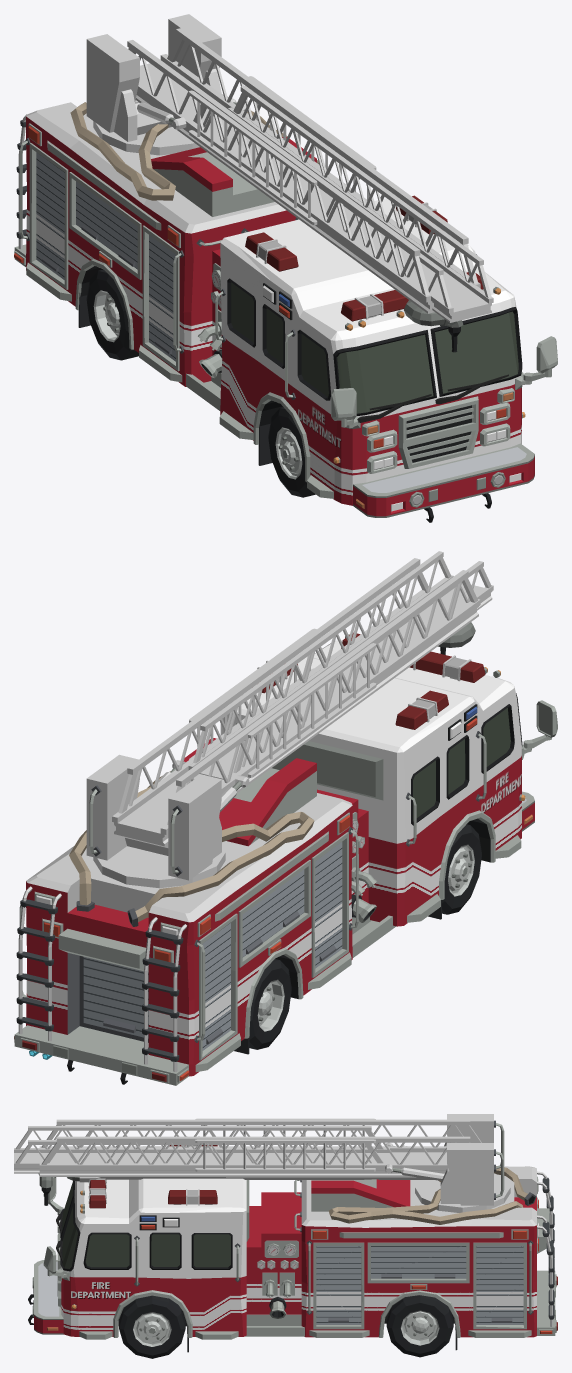
File: SM_Veh_Firetruck_01.fbx
3 views of the same model, one above another, from view 1: azimuth 30°, elevation 25°; view 2: azimuth 150°, elevation 25°; view 3: azimuth 270°, elevation 25° (orthographic). The views are drawn at different scales.
Visible parts, largest first — view 1: SM_Veh_Firetruck_01, SM_Veh_Firetruck_Ladder_01, SM_Veh_Firetruck_Glass, SM_Veh_Firetruck_Ladder_02, SM_Veh_Firetruck_Ladder_Base, SM_Veh_Firetruck_Wheel_rr, SM_Veh_Firetruck_Wheel_fr; view 2: SM_Veh_Firetruck_01, SM_Veh_Firetruck_Ladder_01, SM_Veh_Firetruck_Ladder_Base, SM_Veh_Firetruck_Ladder_02, SM_Veh_Firetruck_Glass, SM_Veh_Firetruck_Wheel_rr, SM_Veh_Firetruck_Wheel_fr; view 3: SM_Veh_Firetruck_01, SM_Veh_Firetruck_Ladder_01, SM_Veh_Firetruck_Ladder_02, SM_Veh_Firetruck_Ladder_Base, SM_Veh_Firetruck_Glass, SM_Veh_Firetruck_Wheel_fl, SM_Veh_Firetruck_Wheel_rl.
Boxes of the visible parts, x1,y1,x2,y2 form: SM_Veh_Firetruck_01: (14, 102, 557, 522); SM_Veh_Firetruck_Ladder_01: (127, 28, 480, 326); SM_Veh_Firetruck_Glass: (231, 282, 518, 413); SM_Veh_Firetruck_Ladder_02: (189, 85, 493, 322); SM_Veh_Firetruck_Ladder_Base: (86, 14, 221, 155); SM_Veh_Firetruck_Wheel_rr: (86, 269, 138, 360); SM_Veh_Firetruck_Wheel_fr: (268, 407, 315, 497); SM_Veh_Firetruck_01: (14, 632, 557, 1085); SM_Veh_Firetruck_Ladder_01: (112, 558, 480, 846); SM_Veh_Firetruck_Ladder_Base: (86, 754, 225, 888); SM_Veh_Firetruck_Ladder_02: (188, 551, 493, 779); SM_Veh_Firetruck_Glass: (413, 708, 510, 820); SM_Veh_Firetruck_Wheel_rr: (249, 959, 291, 1049); SM_Veh_Firetruck_Wheel_fr: (442, 824, 481, 914); SM_Veh_Firetruck_01: (28, 1136, 557, 1352); SM_Veh_Firetruck_Ladder_01: (39, 1118, 481, 1182); SM_Veh_Firetruck_Ladder_02: (14, 1126, 389, 1173); SM_Veh_Firetruck_Ladder_Base: (415, 1114, 510, 1212); SM_Veh_Firetruck_Glass: (62, 1182, 230, 1268); SM_Veh_Firetruck_Wheel_fl: (119, 1295, 185, 1358); SM_Veh_Firetruck_Wheel_rl: (386, 1295, 453, 1357).
Bounding box in the file's own units: 311 × 368 × 906.
